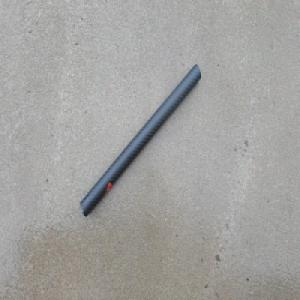LuggagePart: (78, 62, 201, 219)
